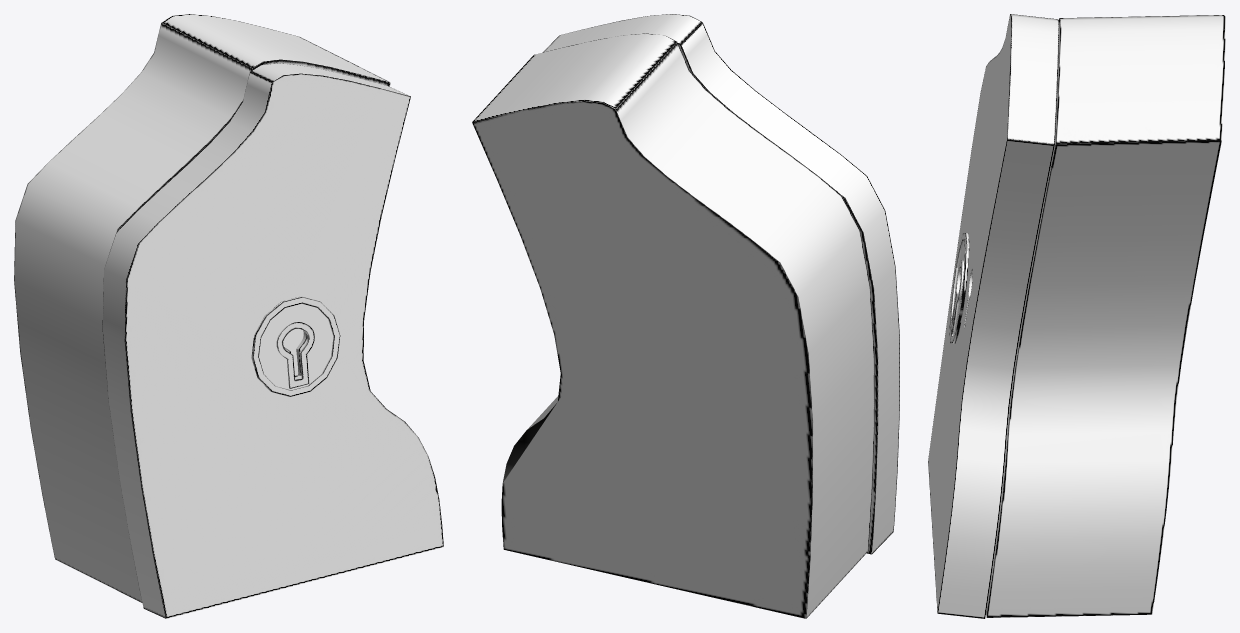
File: schrankTextrur.FBX
3 views of the same model, side by side, from view 1: azimuth 30°, elevation 25°; view 2: azimuth 150°, elevation 25°; view 3: azimuth 270°, elevation 25° (orthographic). The views are drawn at different scales.
Visible parts, largest first — view 1: Line007, schrankInnen, door; view 2: schrankInnen, Line007; view 3: schrankInnen, Line007, door.
Boxes of the visible parts, <box> form: Line007: <box>102,63,443,618</box>; schrankInnen: <box>14,14,390,602</box>; door: <box>251,296,340,396</box>; schrankInnen: <box>472,33,874,618</box>; Line007: <box>543,14,899,554</box>; schrankInnen: <box>986,15,1225,617</box>; Line007: <box>928,14,1058,618</box>; door: <box>949,233,969,343</box>.
Bounding box in the file's own units: 93.05 × 135 × 67.85.
